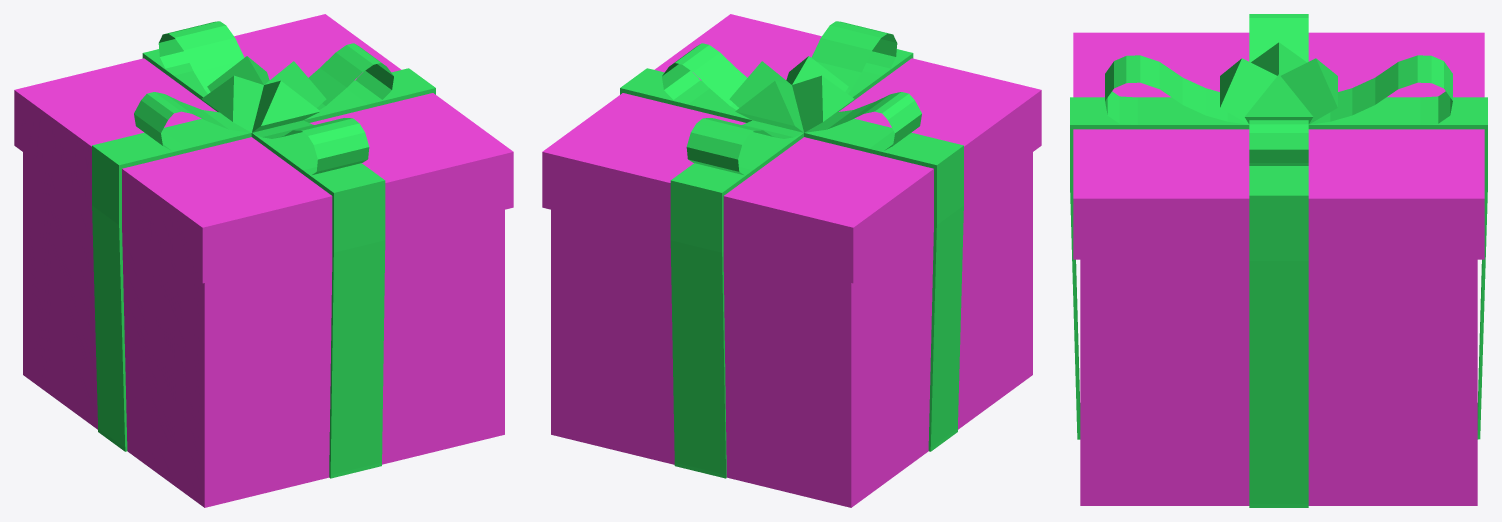
The model's file is Present_Square_Pink.fbx.
The picture shows the model from 3 angles, left to right: view 1: azimuth 30°, elevation 25°; view 2: azimuth 150°, elevation 25°; view 3: azimuth 270°, elevation 25°; orthographic projection. The views are drawn at different scales.
Visible parts, largest first — view 1: Present; view 2: Present; view 3: Present.
Boxes of the visible parts, <box> form: Present: <box>14,14,513,507</box>; Present: <box>542,14,1041,507</box>; Present: <box>1070,14,1487,507</box>.
Bounding box in the file's own units: 164 × 166 × 171.
